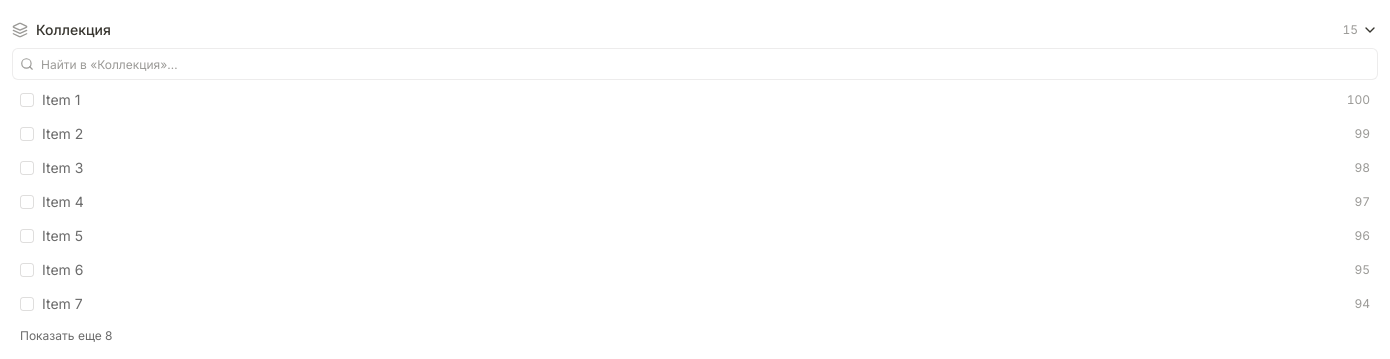
Scenario: FilterSection — search & show more › filters items as the user types
Type "Item 5" into the field with placeholder "Найти в «Коллекция»…" at [695, 64], box [12,48,1378,80]
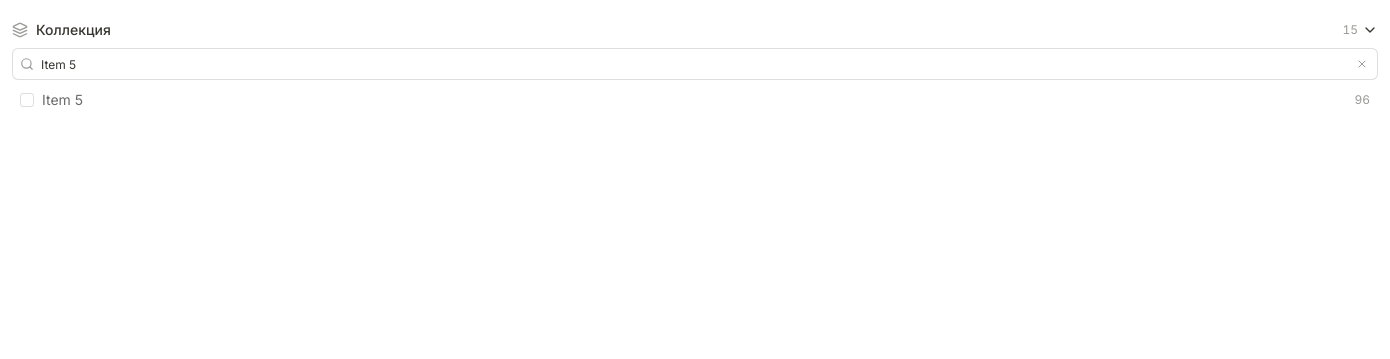
Expected: the text "Item 5" is shown, [42,91,83,108]
Now the text "Item 1" is gone
